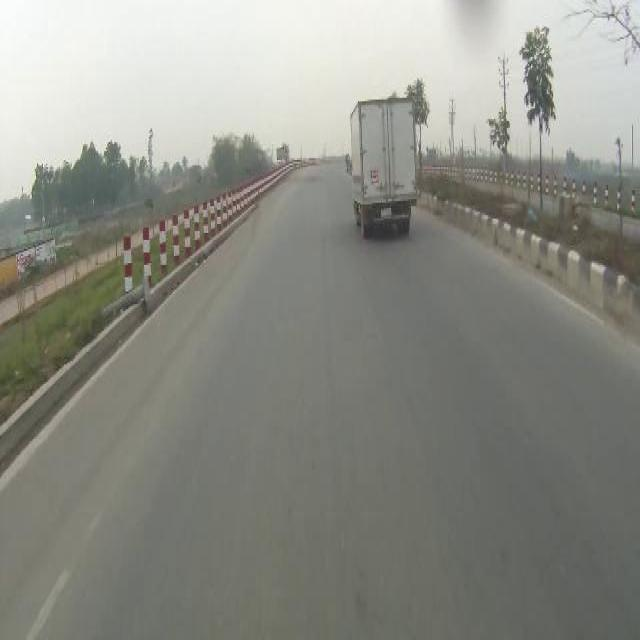Truck: (342, 87, 425, 255)
